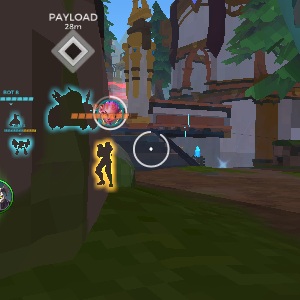model: (90, 136, 120, 195)
